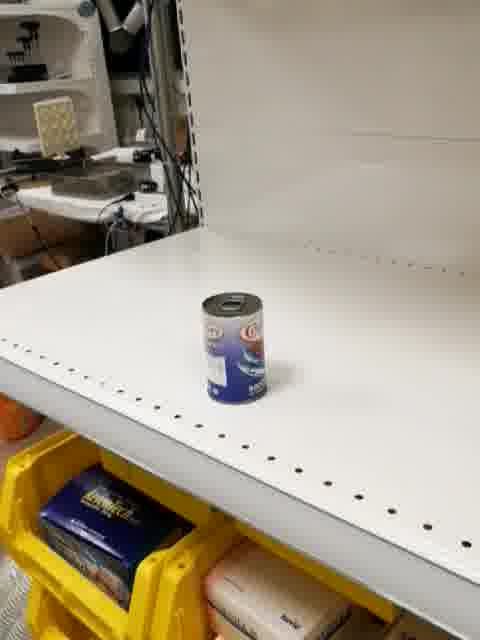sardine: (201, 291, 268, 405)
